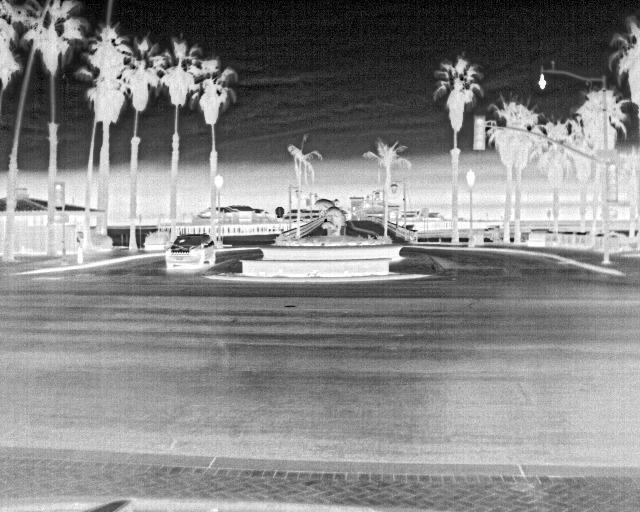car: (162, 233, 218, 270)
